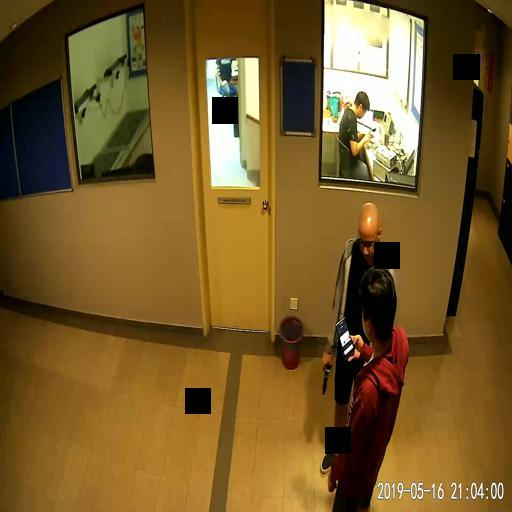Handgun: (321, 357, 330, 394)
